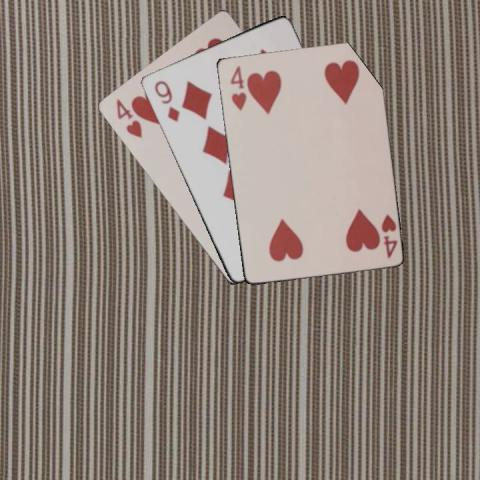4h: (113, 95, 143, 140), (378, 211, 398, 260), (227, 62, 246, 112)
9d: (150, 78, 180, 124)
